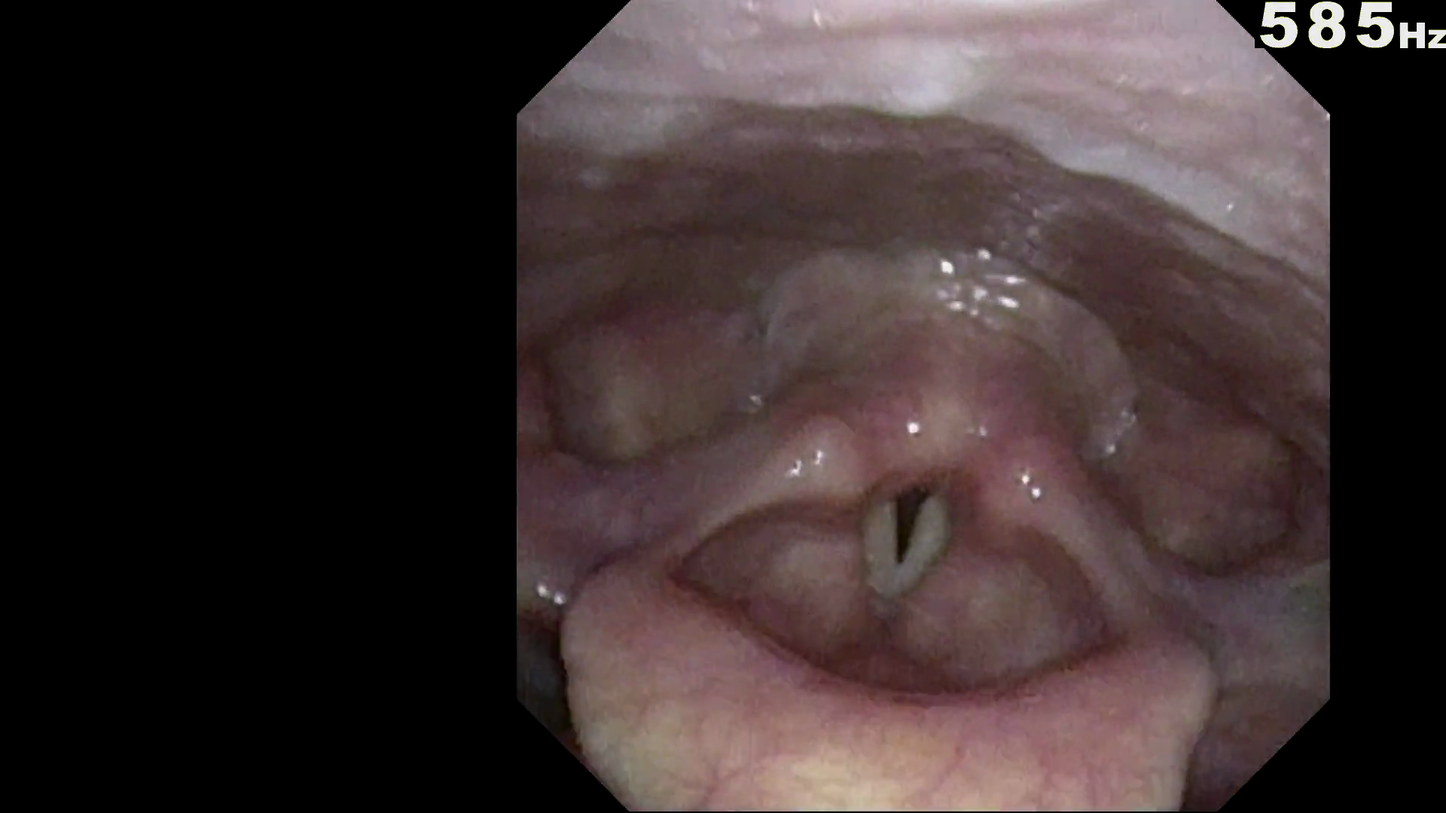epiglottis: (600, 553, 1225, 785)
trachea: (857, 457, 967, 595)
